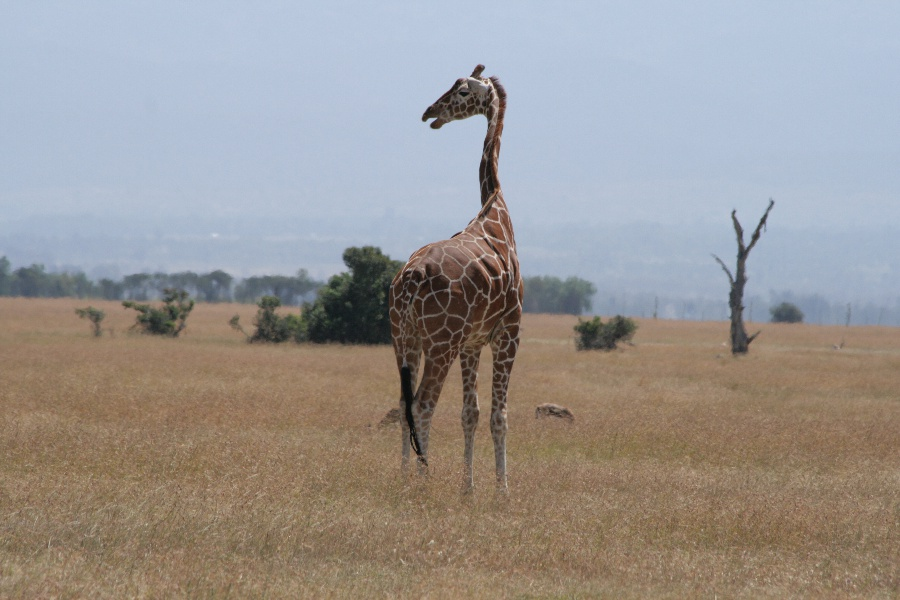giraffe: (368, 55, 527, 504)
